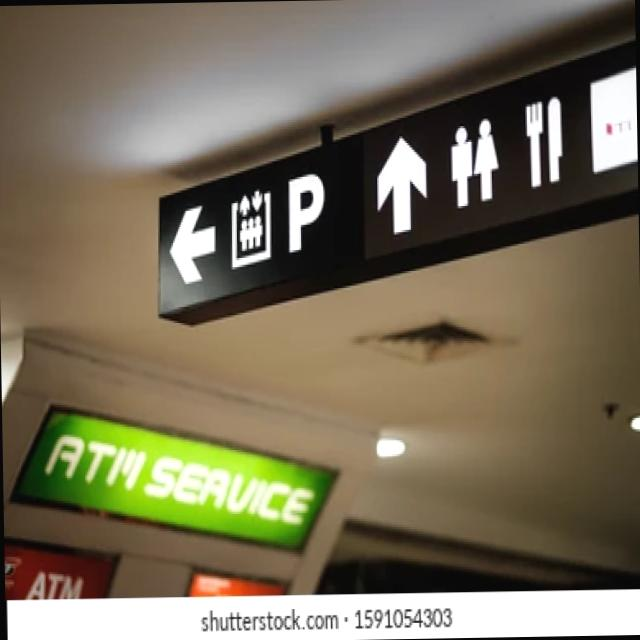lift_icon: (224, 188, 278, 274)
toilet_icon: (444, 114, 506, 211)
